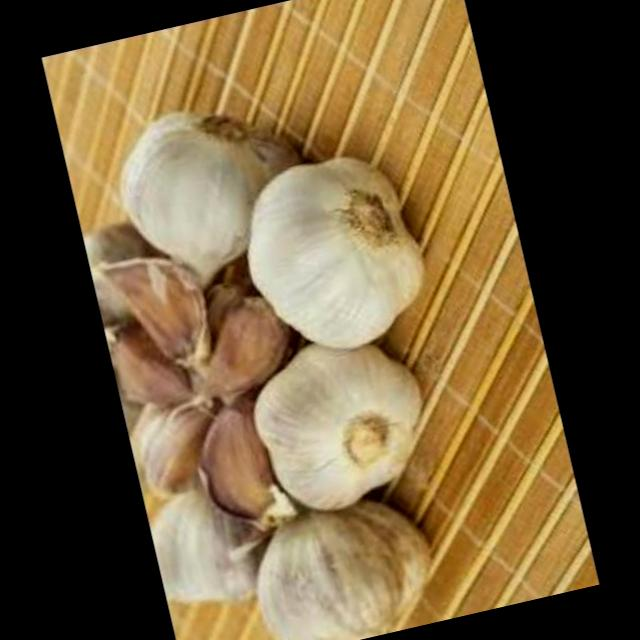garlic: (223, 130, 434, 370), (225, 316, 451, 536), (97, 90, 316, 296), (225, 476, 440, 640), (86, 234, 224, 384), (173, 386, 296, 544), (141, 474, 268, 626), (168, 285, 294, 418), (110, 344, 213, 496)
